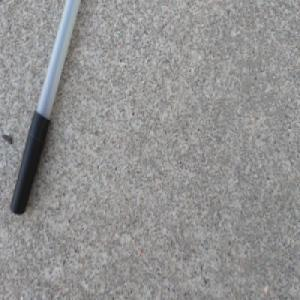Pen: (8, 0, 84, 216)
